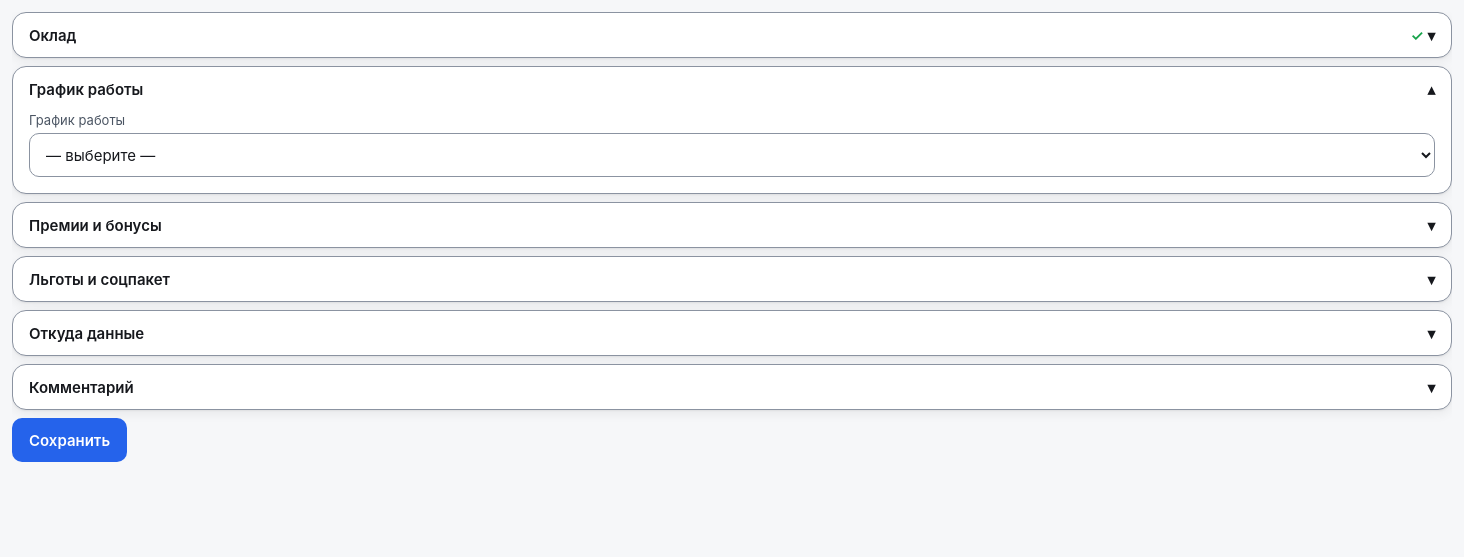
открытие блока выше закрывает нижний
Check: the dropdown labelled "График работы" is shown, box top-left (29, 133), bottom-right (1435, 177)
Click the button "Оклад ✓ ▾".
click(53, 35)  # box top-left (13, 13), bottom-right (1451, 57)
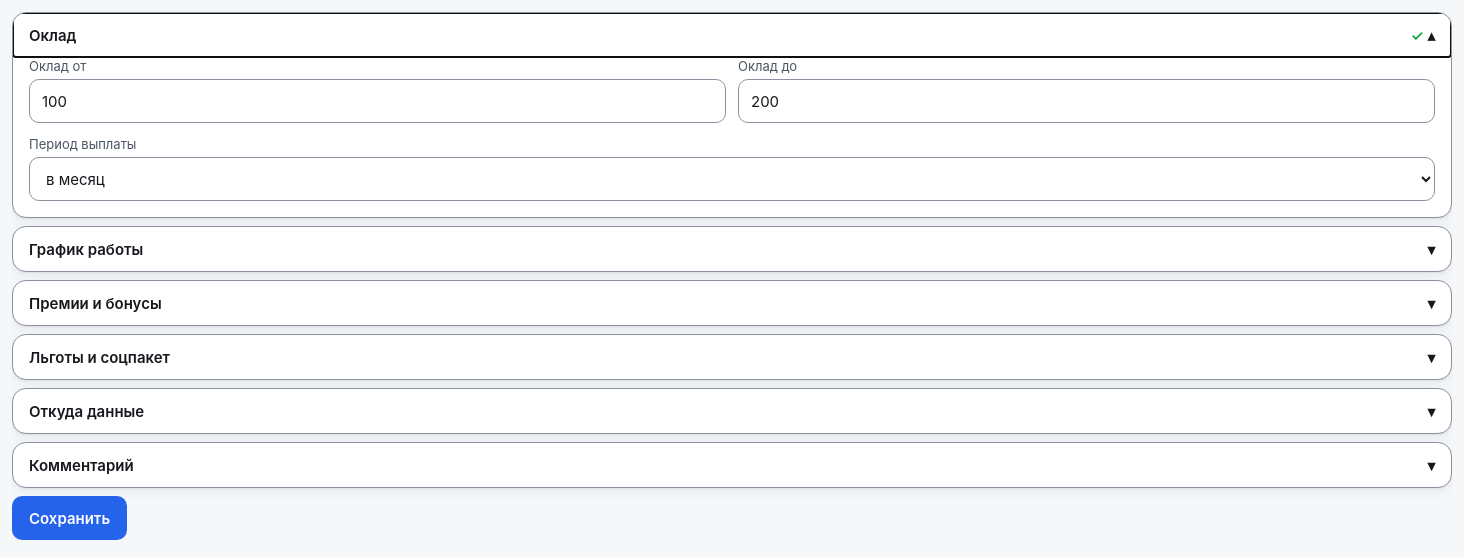
Check: the field labelled "Оклад от" is shown, box top-left (29, 79), bottom-right (726, 123)
